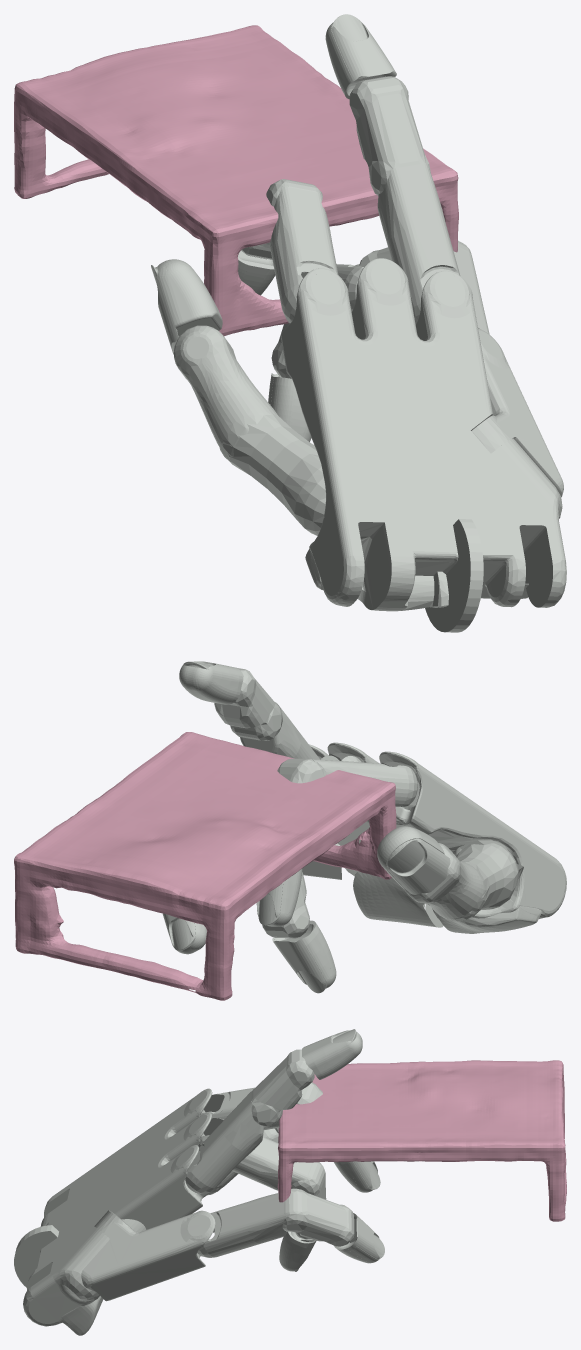
3 views of the same model, one above another, from view 1: azimuth 30°, elevation 25°; view 2: azimuth 150°, elevation 25°; view 3: azimuth 270°, elevation 25° (orthographic). The views are drawn at different scales.
Visible parts, largest first — view 1: hand, world; view 2: world, hand; view 3: hand, world.
Part boxes in pixels (left/top/right/bottom): hand: left=151, top=14, right=566, bottom=632; world: left=14, top=25, right=458, bottom=336; world: left=14, top=732, right=396, bottom=1000; hand: left=162, top=661, right=566, bottom=993; hand: left=14, top=1029, right=384, bottom=1335; world: left=277, top=1060, right=566, bottom=1221.
Bounding box in the file's own units: 0.1186 × 0.1555 × 0.2521.
